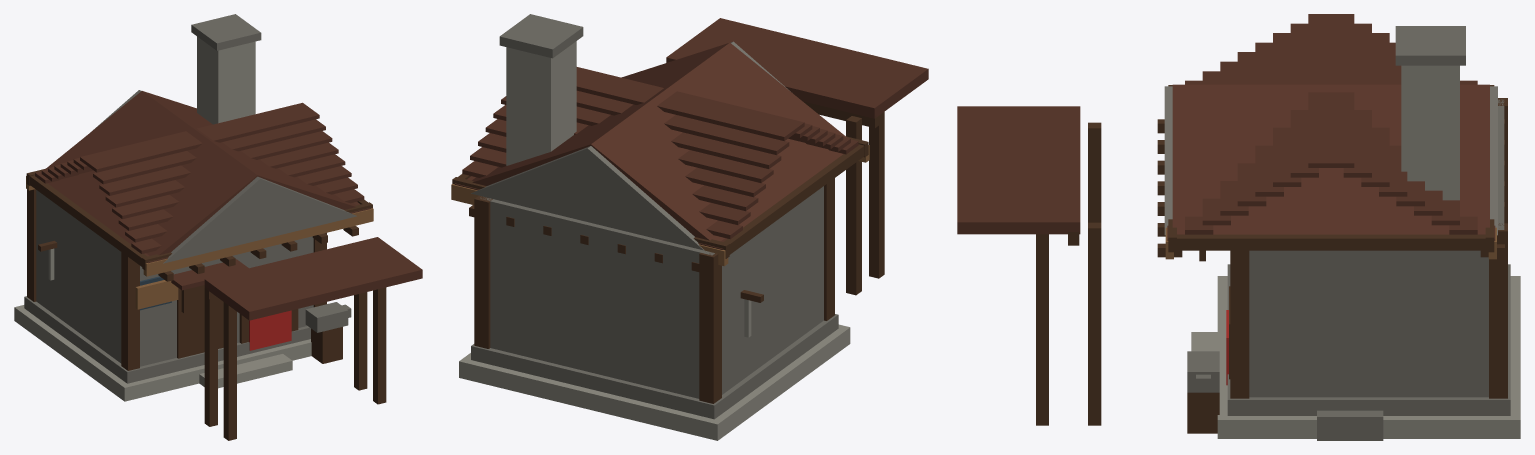
The model's file is blacksmith.glb.
The picture shows the model from 3 angles, left to right: view 1: azimuth 30°, elevation 25°; view 2: azimuth 150°, elevation 25°; view 3: azimuth 270°, elevation 25°; orthographic projection. The views are drawn at different scales.
Visible parts, largest first — view 1: blacksmith; view 2: blacksmith; view 3: blacksmith.
Part boxes in pixels (left/top/right/bottom): blacksmith: left=14, top=14, right=422, bottom=440; blacksmith: left=451, top=14, right=928, bottom=440; blacksmith: left=957, top=14, right=1520, bottom=440.
Size of the model in its own units: 3.96 by 4.36 by 5.95.
